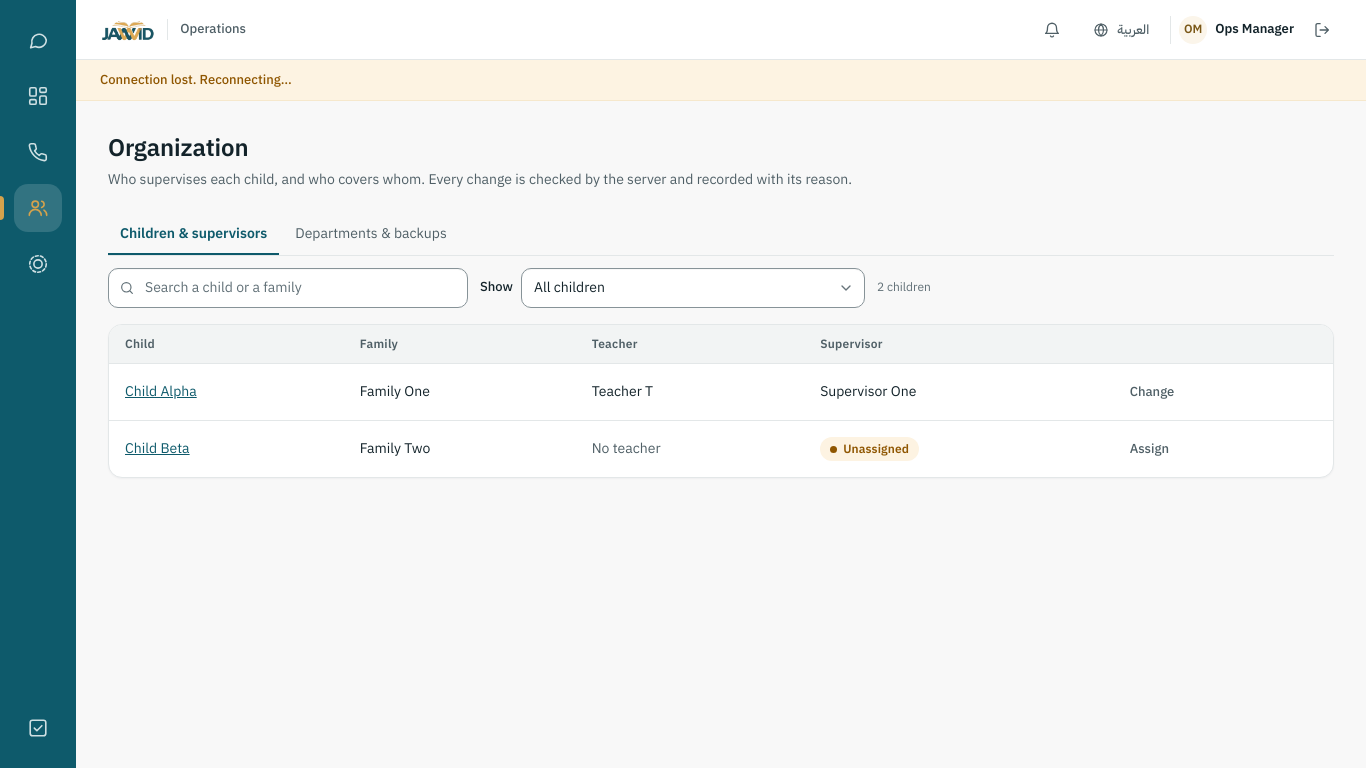
Test: children and their supervisors › filters to the children without a supervisor
Expected: the link "Child Alpha" is shown, x1=125 y1=381 x2=197 y2=402
Step 1. Click the dropdown labelled "Show" → [693, 288], box x1=521 y1=268 x2=865 y2=308
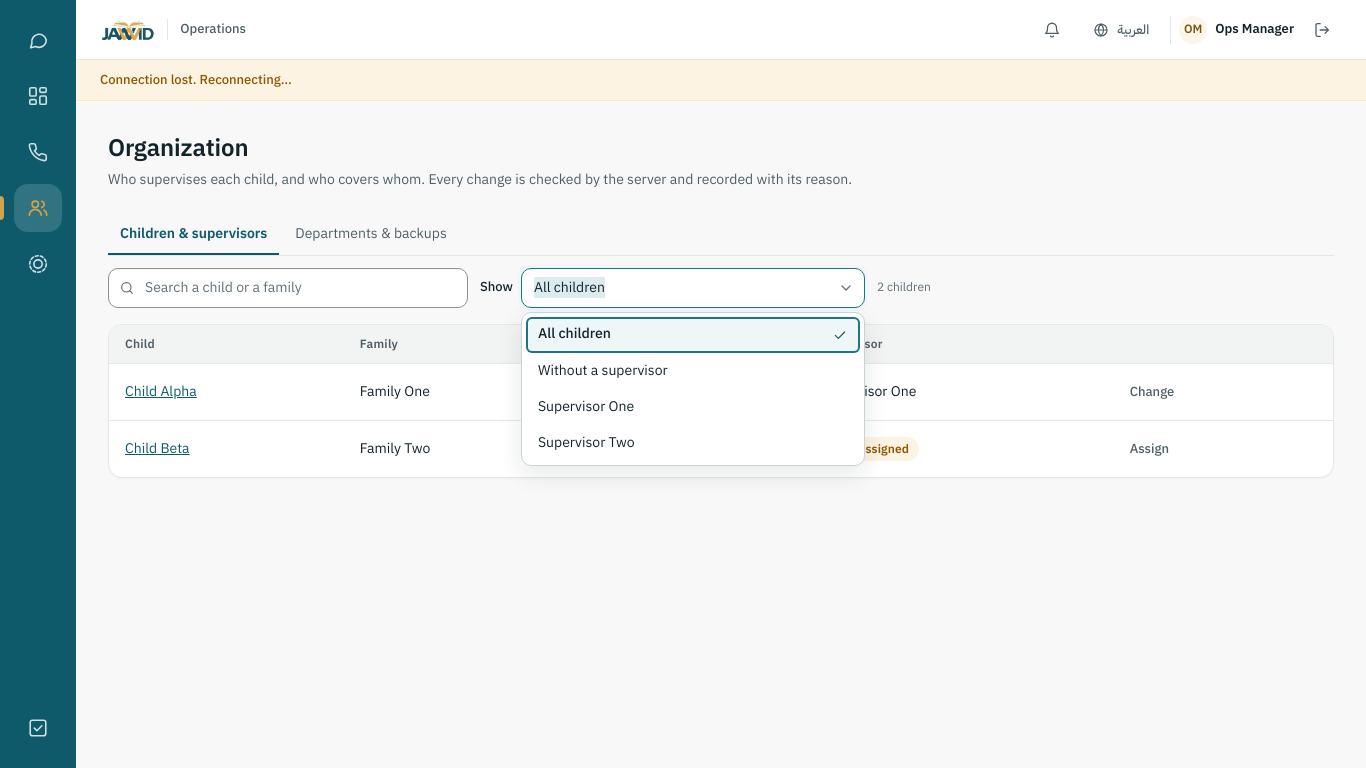
Step 2. Click the option "Without a supervisor" → [603, 370], box x1=538 y1=360 x2=668 y2=381
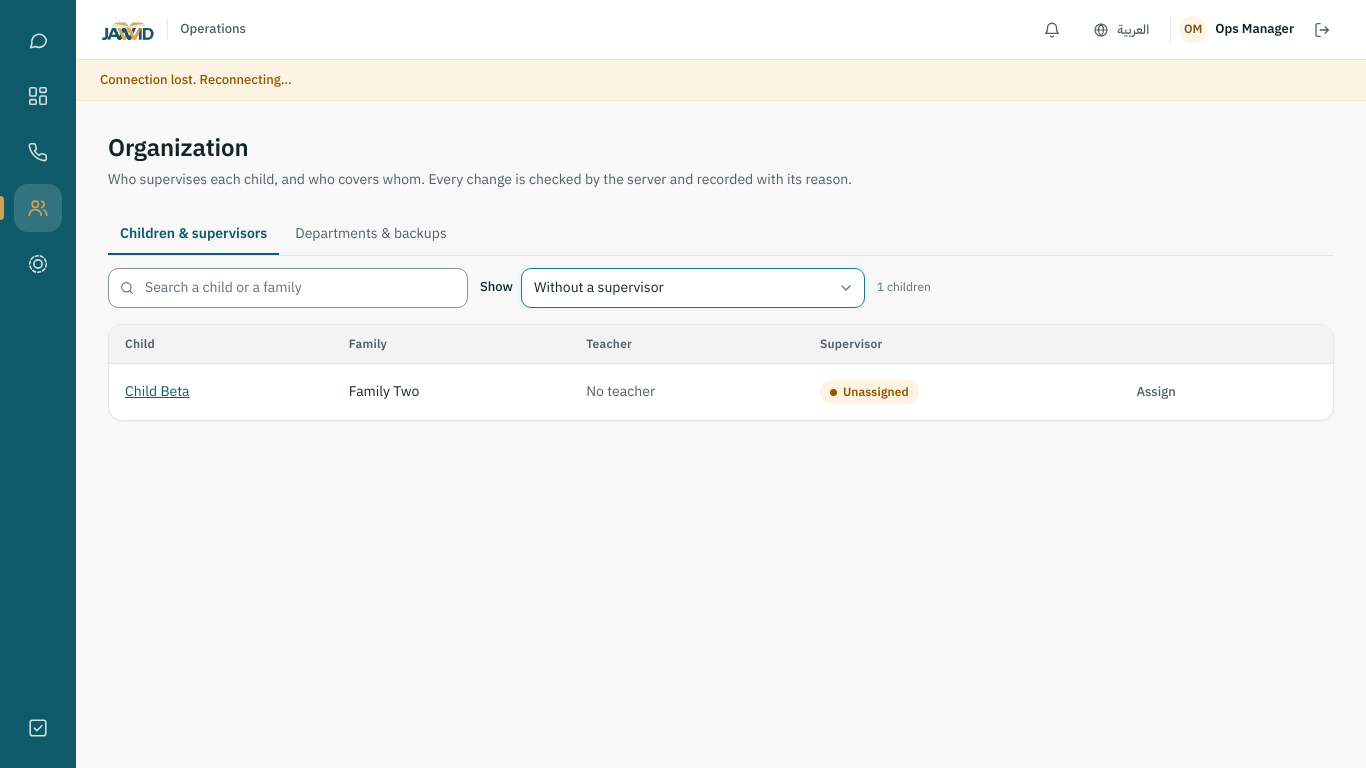
Expected: the link "Child Beta" is shown, x1=125 y1=381 x2=190 y2=402
Expected: the link "Child Alpha" is gone
